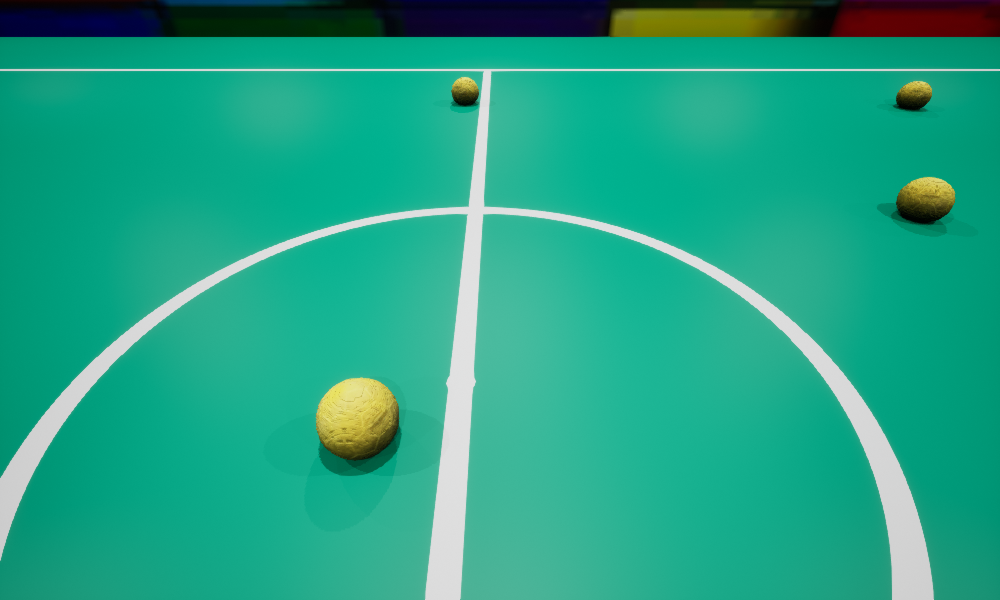b: (316, 377, 398, 460), (896, 177, 955, 222), (896, 81, 931, 109), (451, 77, 478, 104)
